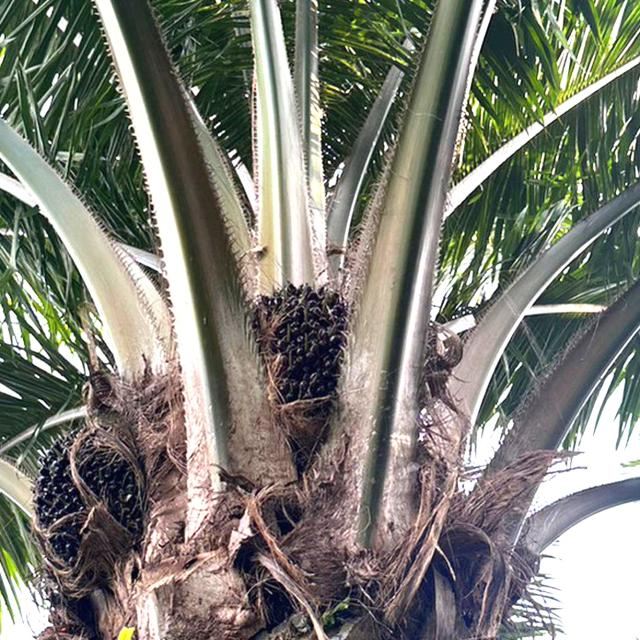ripe: (245, 278, 370, 412), (33, 427, 144, 568)
